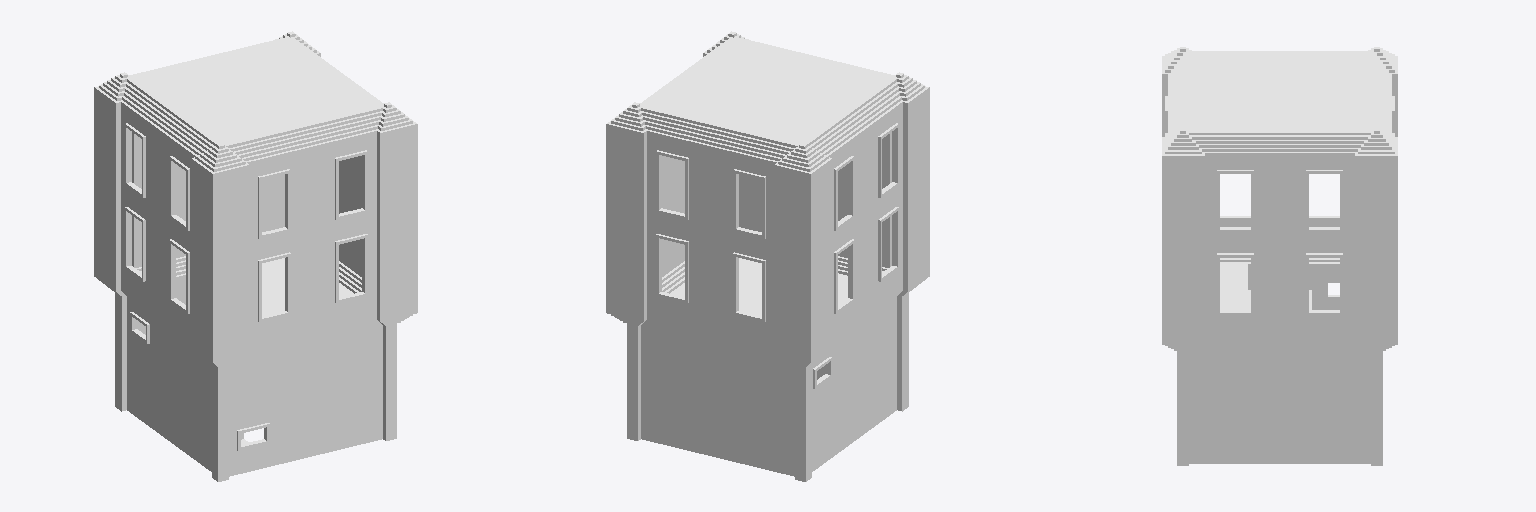
File: stairs4_wall_half_top.obj
3 renders of one model, left to right at view 1: azimuth 30°, elevation 25°; view 2: azimuth 150°, elevation 25°; view 3: azimuth 270°, elevation 25°, orthographic.
Parts seen in each view (by area): view 1: stairs4_wall_half_top; view 2: stairs4_wall_half_top; view 3: stairs4_wall_half_top.
Part boxes in pixels (x1,y1,x2,y2): stairs4_wall_half_top: (94,31,417,481); stairs4_wall_half_top: (606,31,929,481); stairs4_wall_half_top: (1162,47,1397,465).
Size of the model in its own units: 77 by 120 by 77.